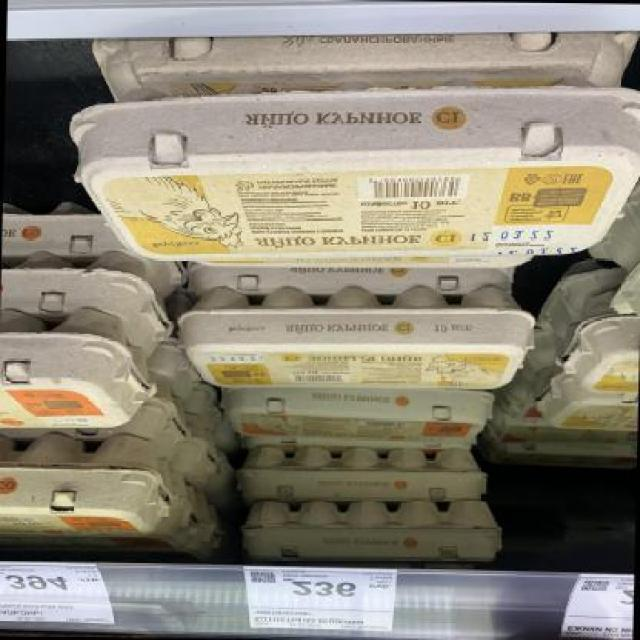Egg: (61, 79, 640, 272), (170, 282, 538, 396), (0, 310, 160, 428), (224, 385, 494, 444)
